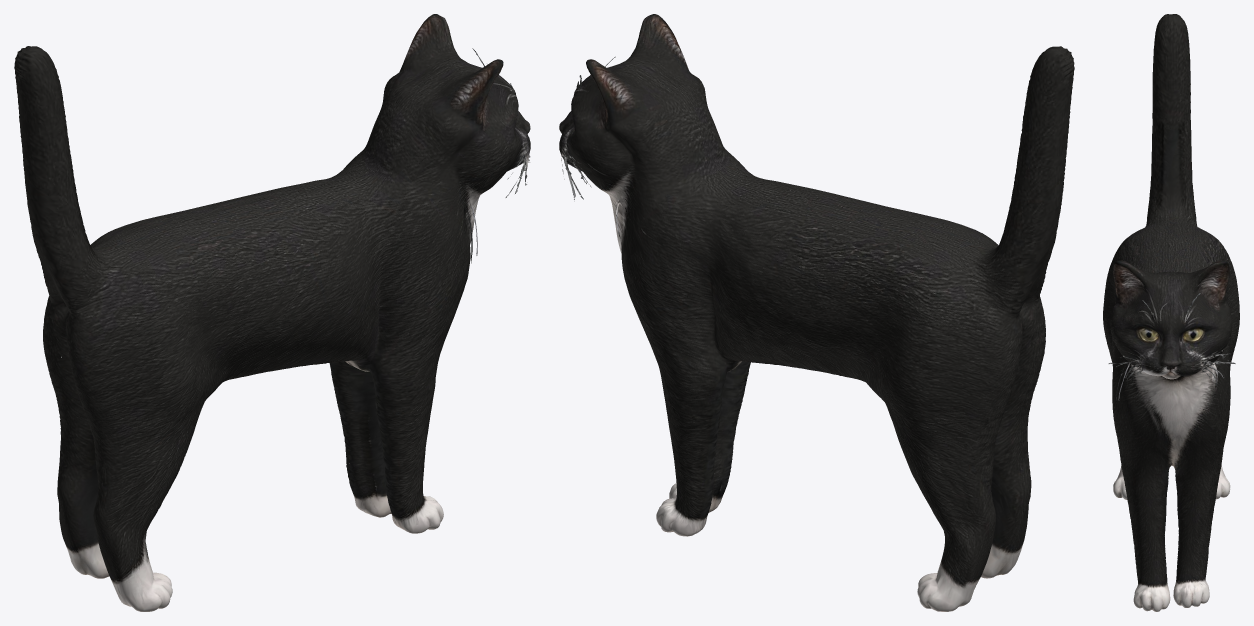
Rendered from SYBILCAT.glb.
3 views of the same model, side by side, from view 1: azimuth 30°, elevation 25°; view 2: azimuth 150°, elevation 25°; view 3: azimuth 270°, elevation 25° (orthographic). The views are drawn at different scales.
Parts seen in each view (by area): view 1: tripo_node_f879fd89-e963-451d-be79-116a4ebbd46e; view 2: tripo_node_f879fd89-e963-451d-be79-116a4ebbd46e; view 3: tripo_node_f879fd89-e963-451d-be79-116a4ebbd46e.
Part boxes in pixels (bbox=[...]): tripo_node_f879fd89-e963-451d-be79-116a4ebbd46e: bbox=[14, 14, 530, 611]; tripo_node_f879fd89-e963-451d-be79-116a4ebbd46e: bbox=[559, 14, 1074, 611]; tripo_node_f879fd89-e963-451d-be79-116a4ebbd46e: bbox=[1103, 14, 1239, 611].
Bounding box in the file's own units: 0.9537 × 1 × 0.2782.
1 material, 1 textured.
